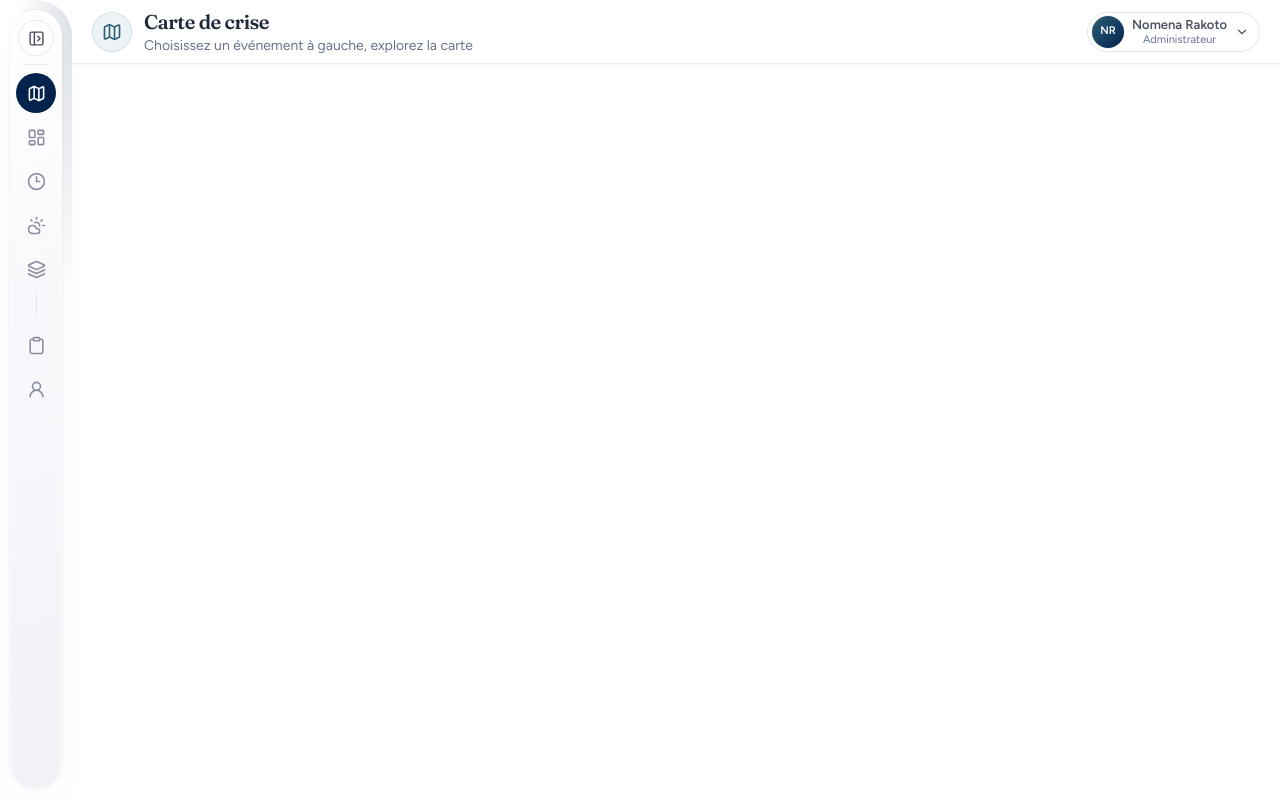
Test: AppShell — menu du sidebar › déplie le sous-menu Données à la demande
// Depuis le rail, cliquer un sous-menu agrandit le sidebar et le déplie.
Click the button named "Données" at (36, 269), box [16,249,56,289]
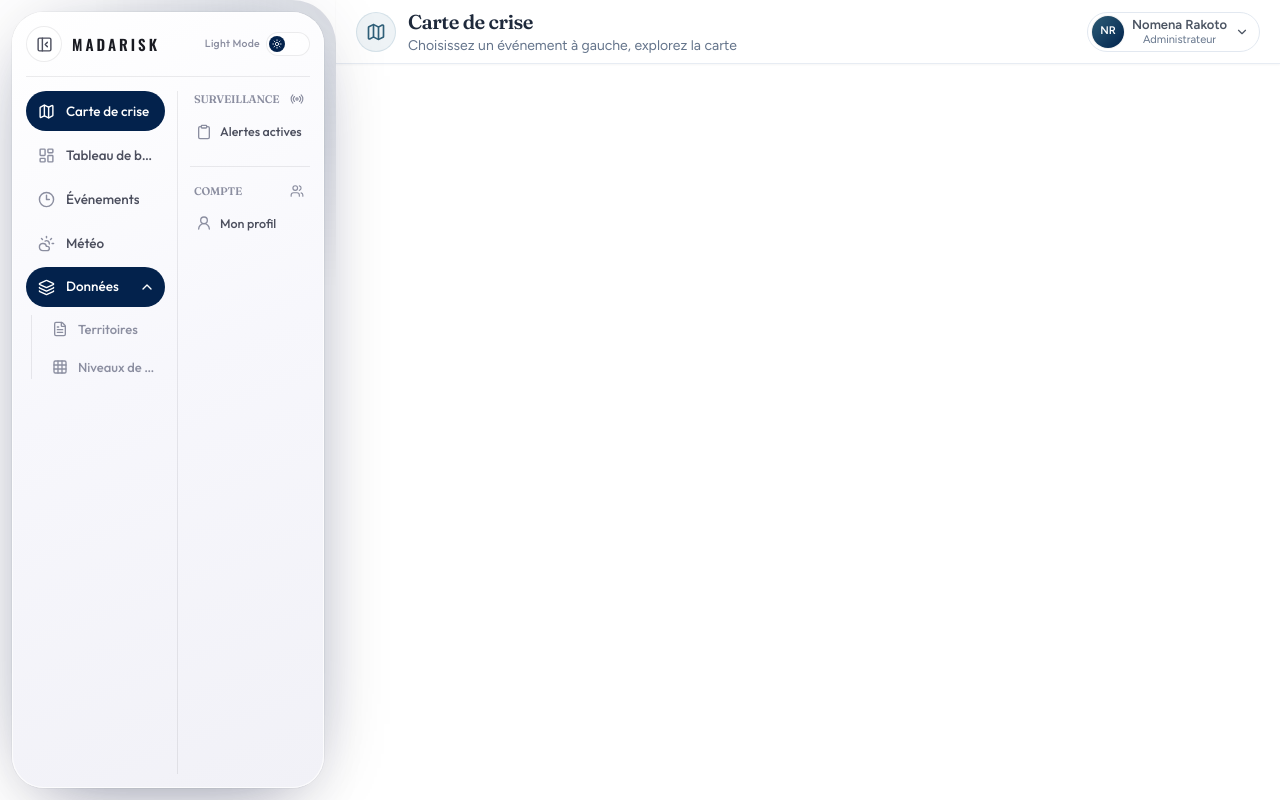
Expected: the link "Territoires" is shown, [52,320,138,337]
